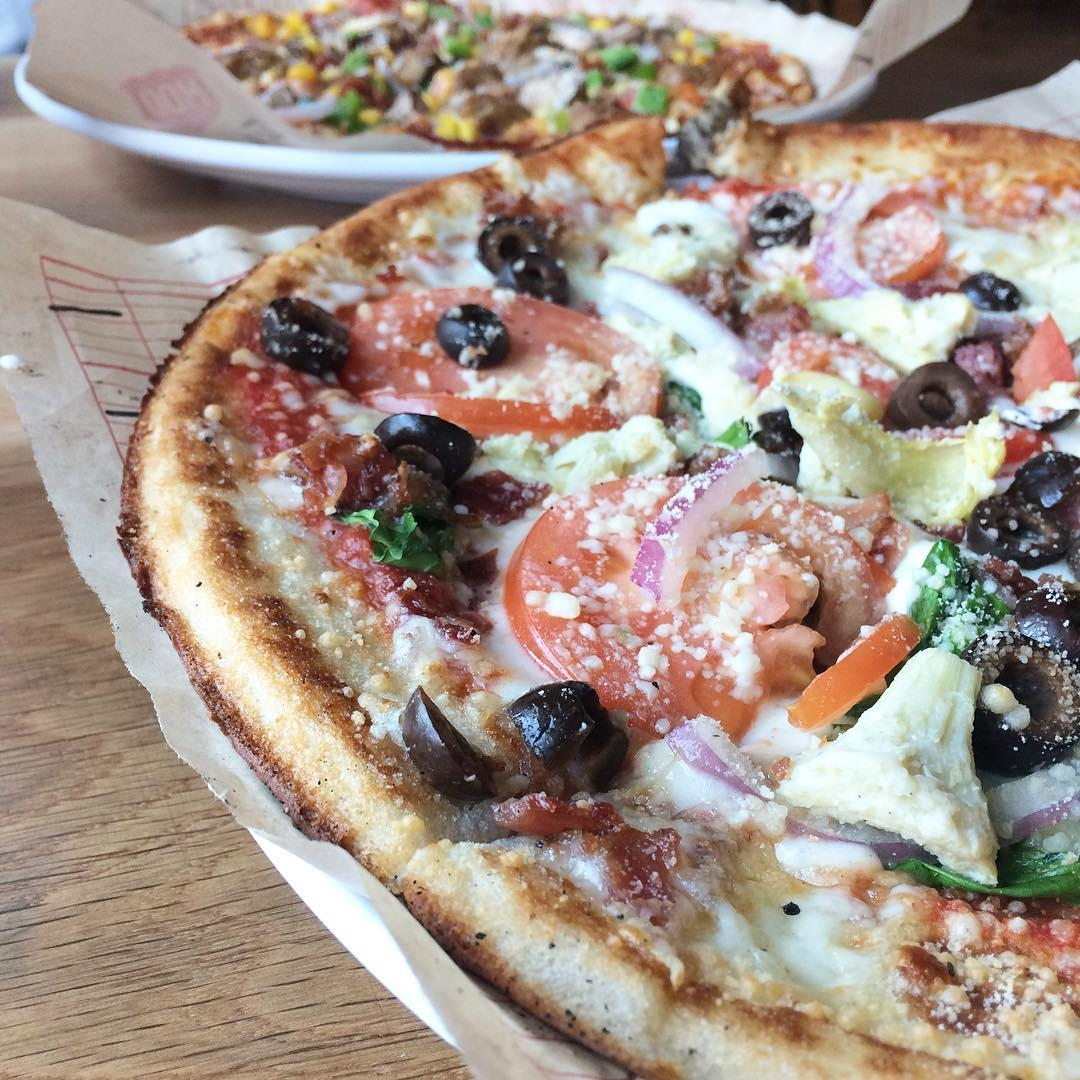Olives: (961, 629, 1080, 775), (509, 680, 629, 797), (400, 685, 490, 803), (479, 216, 570, 305), (375, 409, 476, 483), (258, 296, 353, 372), (969, 500, 1070, 569), (890, 360, 984, 430), (1015, 586, 1080, 668), (437, 305, 511, 369), (1013, 450, 1080, 506), (749, 193, 813, 248), (958, 271, 1023, 313), (753, 408, 803, 452)
Onion: (664, 714, 1080, 870), (632, 476, 724, 604), (819, 176, 870, 299)
Pizza: (135, 120, 1080, 1080)
Tomatoes: (501, 476, 882, 745), (353, 285, 662, 426), (738, 186, 947, 299)
